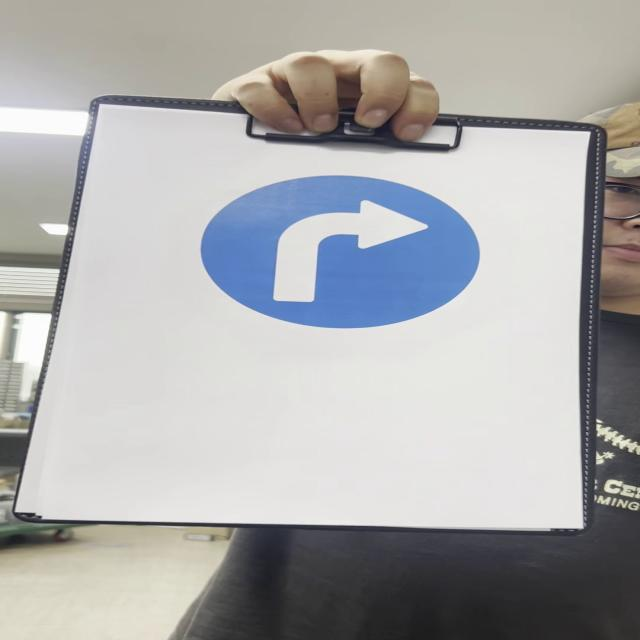right: (201, 175, 485, 333)
